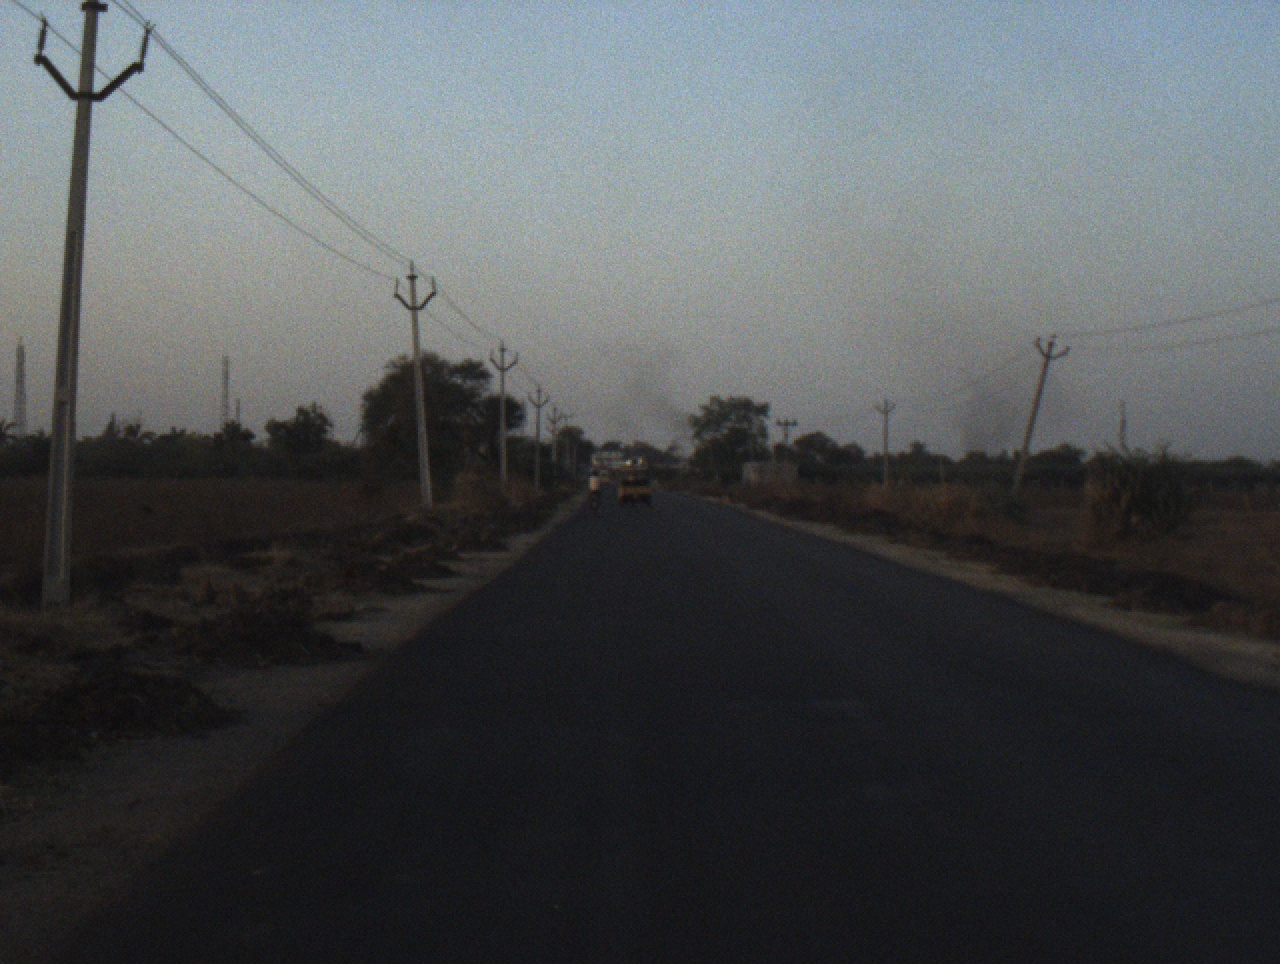autorickshaw: (614, 455, 654, 511)
bicycle: (589, 491, 600, 512)
rider: (588, 467, 604, 500)
vehicle fallback: (598, 467, 613, 485)
